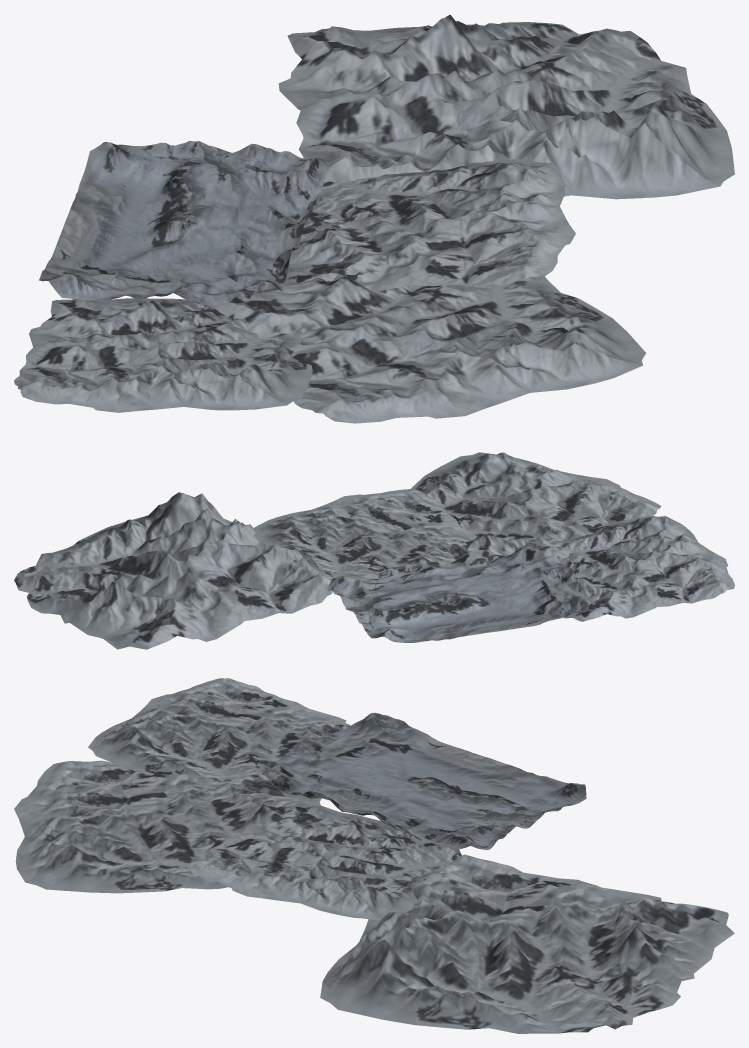
The model's file is env_atm_hoth_01_pre.glb.
3 views of the same model, one above another, from view 1: azimuth 30°, elevation 25°; view 2: azimuth 150°, elevation 25°; view 3: azimuth 270°, elevation 25° (orthographic). The views are drawn at different scales.
Visible parts, largest first — view 1: terrain_01_mesh (8), terrain_01_mesh (2), tb_terrain_hoth_01_mesh, terrain_01_mesh (3), terrain_01_mesh (1); view 2: terrain_01_mesh (8), tb_terrain_hoth_01_mesh, terrain_01_mesh (2), terrain_01_mesh (3), terrain_01_mesh (1); view 3: terrain_01_mesh (8), terrain_01_mesh (2), tb_terrain_hoth_01_mesh, terrain_01_mesh (3), terrain_01_mesh (1).
Part boxes in pixels (x1,y1,x2,y2): terrain_01_mesh (8): (278,14,734,199); terrain_01_mesh (2): (212,272,645,423); tb_terrain_hoth_01_mesh: (39,140,328,306); terrain_01_mesh (3): (285,159,575,291); terrain_01_mesh (1): (14,298,312,412); terrain_01_mesh (8): (14,492,332,649); tb_terrain_hoth_01_mesh: (327,541,595,642); terrain_01_mesh (2): (411,452,661,558); terrain_01_mesh (3): (254,488,478,580); terrain_01_mesh (1): (554,515,734,621); terrain_01_mesh (8): (320,854,734,1033); terrain_01_mesh (2): (14,760,321,893); tb_terrain_hoth_01_mesh: (258,712,586,849); terrain_01_mesh (3): (187,805,461,919); terrain_01_mesh (1): (88,678,350,787).
Size of what is drawn, in the model's own units: 373 by 25.6 by 333.
2 materials, 2 textured.
